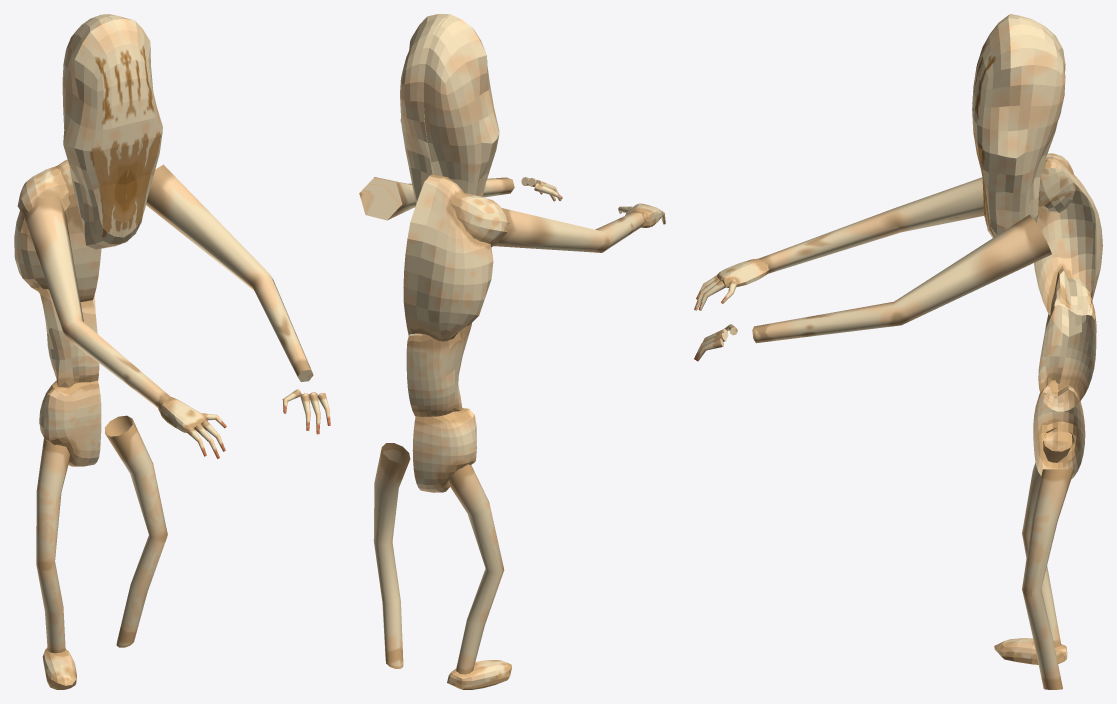
The model's file is enemyy.glb.
The picture shows the model from 3 angles, left to right: view 1: azimuth 30°, elevation 25°; view 2: azimuth 150°, elevation 25°; view 3: azimuth 270°, elevation 25°; orthographic projection.
Visible parts, largest first — view 1: head, BézierCurve.001, BézierCurve, pelvis, torso, stomach, BézierCurve.005, Cube.001, Cube, Cube.002; view 2: head, torso, BézierCurve, BézierCurve.001, stomach, pelvis, Cube.001, Cube, BézierCurve.005; view 3: head, BézierCurve.001, BézierCurve, torso, stomach, pelvis, Cube.001, BézierCurve.005, Cube, Cube.002.
Part boxes in pixels (x1,y1,x2,y2): head: (62, 14, 162, 249); BézierCurve.001: (21, 164, 313, 407); BézierCurve: (36, 415, 167, 653); pelvis: (39, 380, 101, 466); torso: (14, 159, 101, 301); stomach: (39, 287, 99, 387); BézierCurve.005: (187, 389, 330, 458); Cube.001: (17, 166, 70, 217); Cube: (42, 648, 76, 689); Cube.002: (158, 397, 207, 432); head: (400, 14, 499, 203); torso: (403, 174, 493, 341); BézierCurve: (373, 443, 504, 674); BézierCurve.001: (359, 177, 645, 252); stomach: (406, 323, 471, 416); pelvis: (412, 407, 476, 492); Cube.001: (451, 193, 509, 247); Cube: (447, 660, 511, 689); BézierCurve.005: (521, 177, 665, 224); head: (972, 14, 1065, 237); BézierCurve.001: (752, 177, 1051, 343); BézierCurve: (1022, 428, 1074, 689); torso: (1034, 158, 1102, 336); stomach: (1038, 266, 1096, 411); pelvis: (1033, 380, 1085, 478); Cube.001: (1038, 153, 1075, 212); BézierCurve.005: (694, 275, 737, 361); Cube: (994, 638, 1067, 664); Cube.002: (717, 258, 769, 287).
Bounding box in the file's own units: 0.5811 × 1.73 × 0.9673.
Materials: 10 (10 with a texture image).
